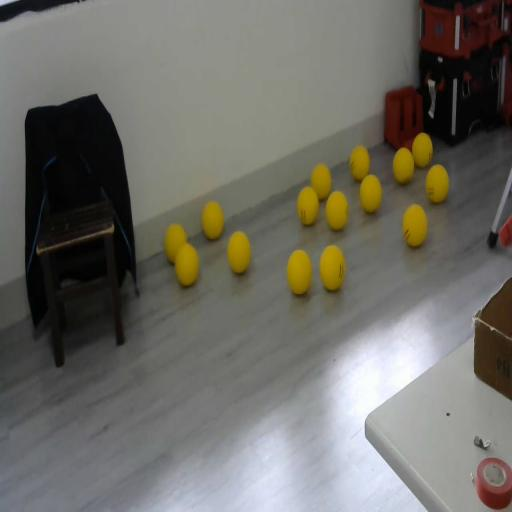FUEL: (286, 248, 312, 295), (319, 244, 345, 291), (226, 230, 252, 274), (402, 204, 428, 248), (163, 222, 188, 264), (326, 189, 349, 231), (426, 163, 450, 203), (201, 200, 224, 240), (360, 174, 382, 214), (296, 186, 318, 226), (310, 163, 332, 200), (392, 147, 414, 184), (349, 145, 370, 181), (412, 132, 433, 167)
